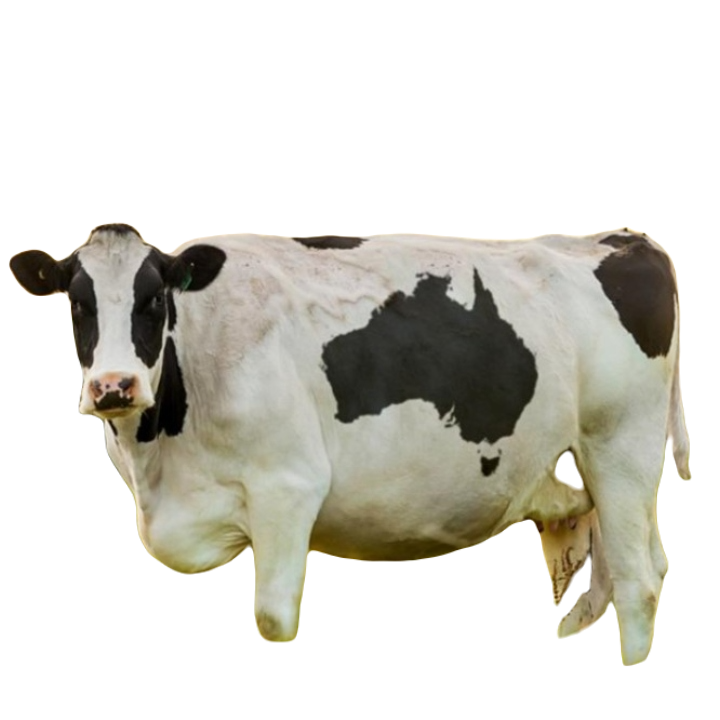Cow: (10, 221, 697, 661)
